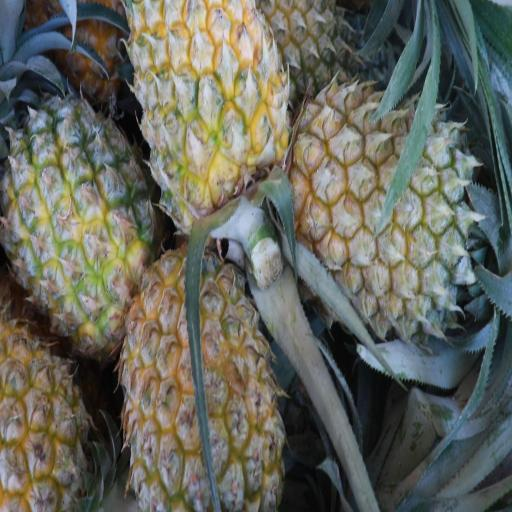------------------------------: (122, 248, 276, 512)
Pineapple - v8 v1: (6, 95, 152, 343), (129, 0, 294, 210), (0, 331, 103, 512)
